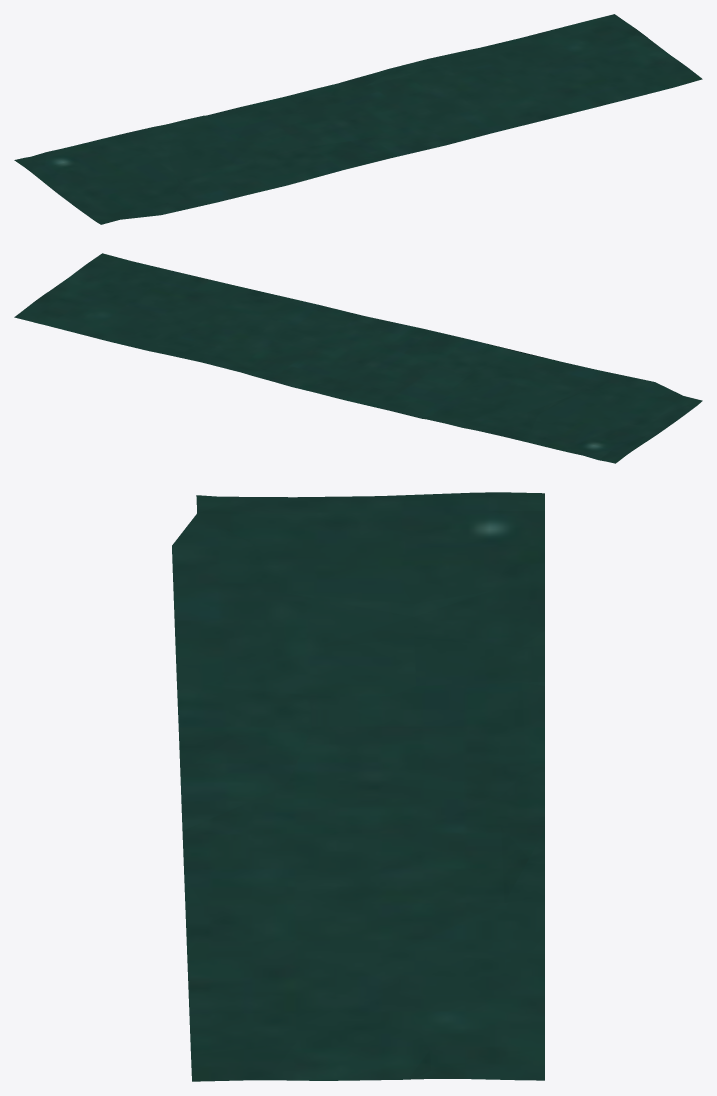
The picture shows the model from 3 angles, top to bottom: view 1: azimuth 30°, elevation 25°; view 2: azimuth 150°, elevation 25°; view 3: azimuth 270°, elevation 25°; orthographic projection. The views are drawn at different scales.
Bounding box in the file's own units: 52.22 × 0.3379 × 14.05.
Materials: 1 (1 with a texture image).
